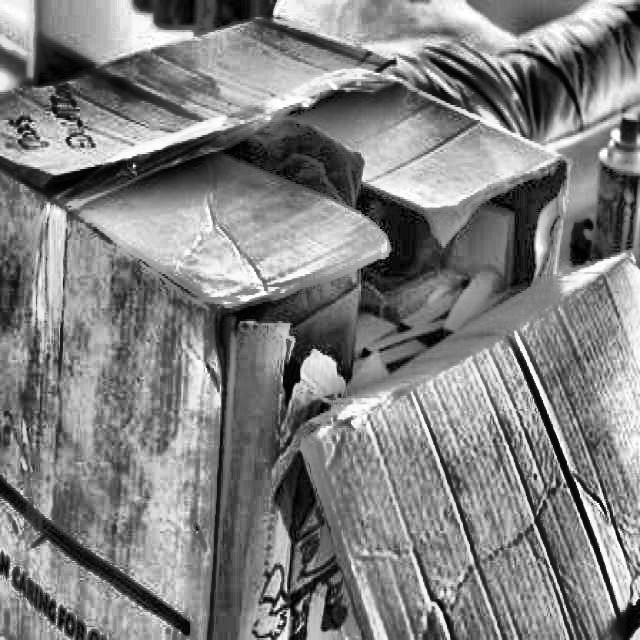box: (0, 9, 639, 639)
hole: (183, 163, 574, 360)
